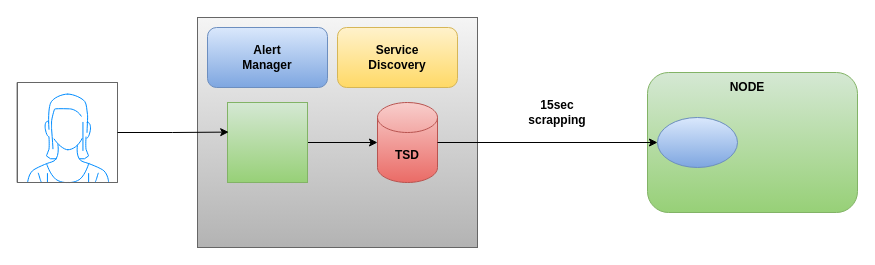
Some shapes in this 875 by 265 pixel diagram are drawn without their labels. The centre of each missing label's shape, as x and y in pixels:
"Grafana" belongs at pixel 267 142.
"node exporter" belongs at pixel 697 142.
